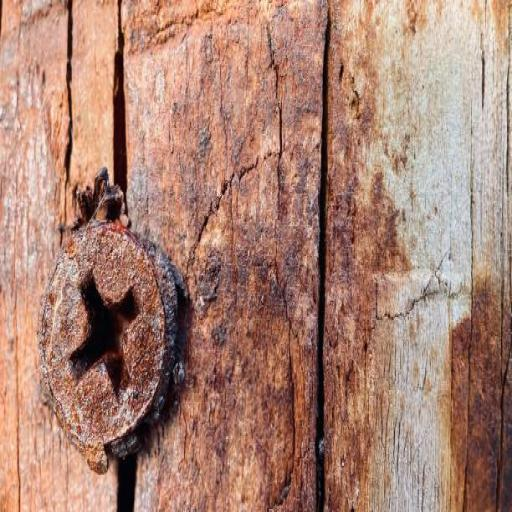Phillips: (38, 224, 169, 458)
